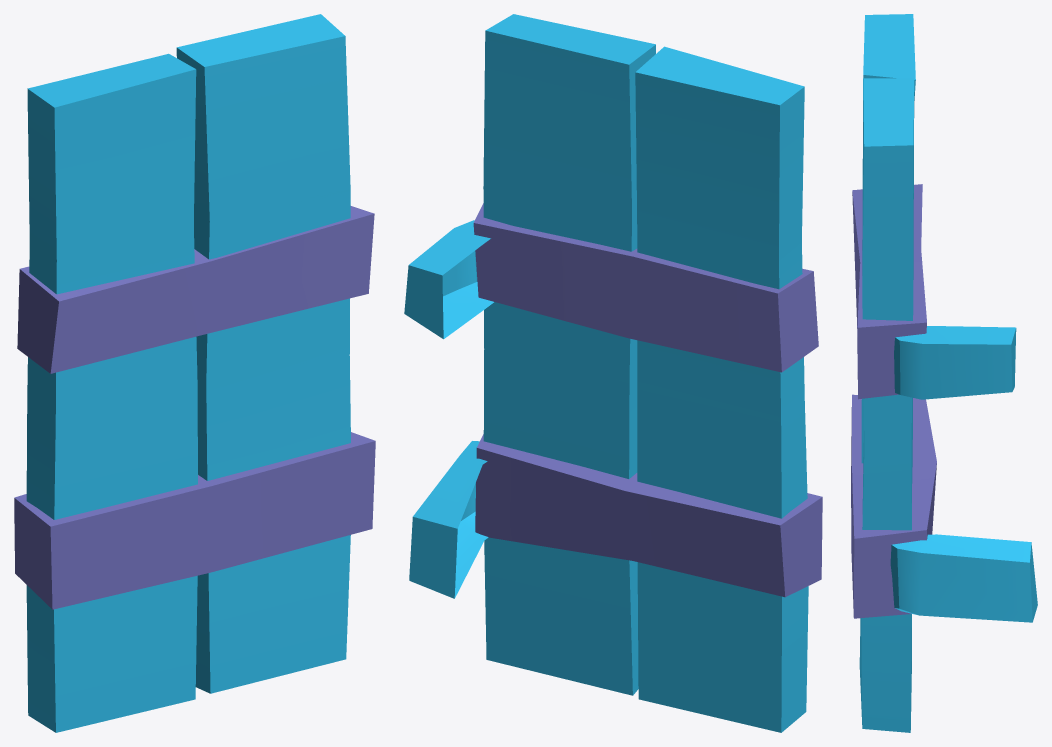
The model's file is Windows_shutters2_L.fbx.
3 views of the same model, side by side, from view 1: azimuth 30°, elevation 25°; view 2: azimuth 150°, elevation 25°; view 3: azimuth 270°, elevation 25° (orthographic). The views are drawn at different scales.
Parts seen in each view (by area): view 1: Windows_shutters2_L; view 2: Windows_shutters2_L; view 3: Windows_shutters2_L.
Part boxes in pixels (<box>): Windows_shutters2_L: <box>14,14,375,732</box>; Windows_shutters2_L: <box>404,14,822,732</box>; Windows_shutters2_L: <box>851,14,1037,732</box>.
Bounding box in the file's own units: 123 × 225 × 64.43.
